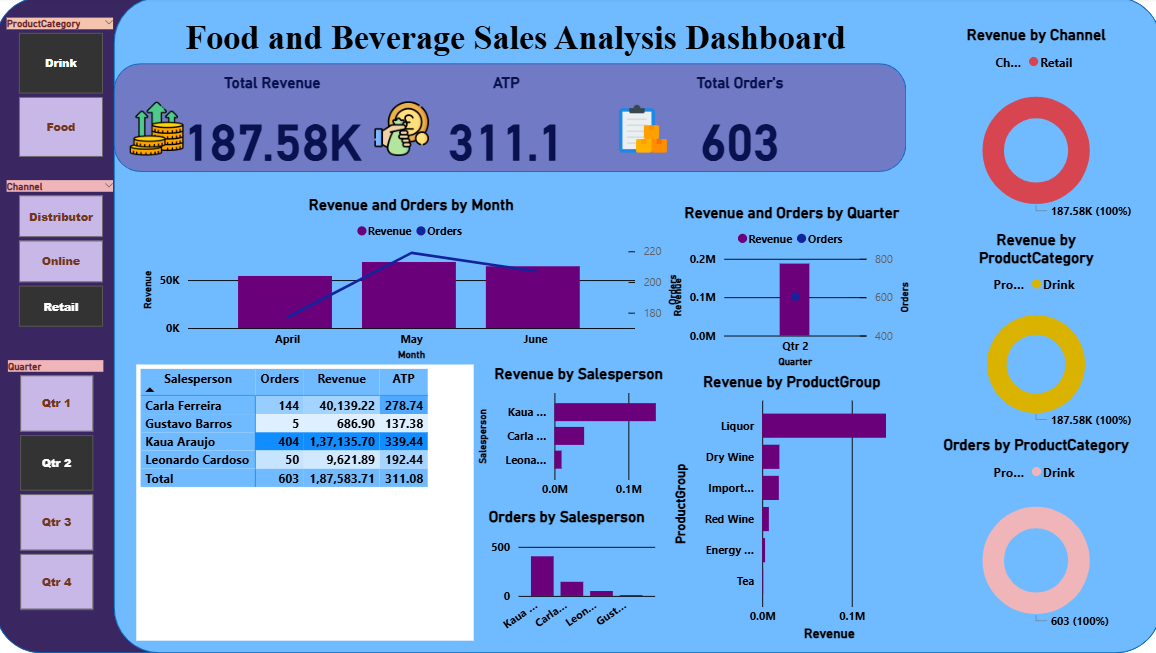

What the dashboard file says about the page in this screenshot:
{"tool":"powerbi","page":{"name":"Page 2","canvas":[1280,720],"ordinal":1},"visuals":[{"type":"shape","box":[0,0,1280.3,720.4],"z":0},{"type":"shape","box":[130.4,0,1149.9,720.4],"z":1000},{"type":"shape","box":[130.4,72.7,870,119.4],"z":2000},{"type":"card","title":"Total Revenue","fields":{"Values":["Product.Revenue"]},"box":[155.1,83.7,299.1,119.4],"z":3000},{"type":"card","title":"ATP","fields":{"Values":["Product.ATP"]},"box":[411.7,83.7,299.1,119.4],"z":4000},{"type":"card","title":"Total Order''s","fields":{"Values":["Product.Orders"]},"box":[668.3,83.7,299.1,119.4],"z":5000},{"type":"donutChart","fields":{"Y":["Product.Revenue"],"Category":["Sheet1.Channel"]},"box":[1033.3,31.6,219.6,225],"z":6000},{"type":"donutChart","fields":{"Y":["Product.Revenue"],"Category":["Product.ProductCategory"]},"box":[1033.3,256.6,219.6,225],"z":7000},{"type":"donutChart","fields":{"Category":["Product.ProductCategory"],"Y":["Product.Orders"]},"box":[1033.3,481.6,219.6,225],"z":8000},{"type":"lineStackedColumnComboChart","fields":{"Y":["Product.Revenue"],"Y2":["Product.Orders"],"Category":["Sheet1.OrderDate.Variation.Date Hierarchy.Quarter"]},"box":[739.6,226.4,270.3,185.2],"z":9000},{"type":"barChart","fields":{"Y":["Product.Revenue"],"Category":["Product.ProductGroup"]},"box":[739.6,411.7,270.3,300.5],"z":10000},{"type":"lineStackedColumnComboChart","fields":{"Y":["Product.Revenue"],"Y2":["Product.Orders"],"Category":["Sheet1.OrderDate.Variation.Date Hierarchy.Month"]},"box":[157.8,218.2,598.3,185.2],"z":11000},{"type":"barChart","fields":{"Y":["Product.Revenue"],"Category":["Sheet1.Salesperson"]},"box":[525.6,403.4,230.5,155.1],"z":12000},{"type":"clusteredColumnChart","fields":{"Y":["Product.Orders"],"Category":["Sheet1.Salesperson"]},"box":[525.6,559.9,204.5,146.8],"z":13000},{"type":"pivotTable","fields":{"Rows":["Sheet1.Salesperson"],"Values":["Product.Orders","Product.Revenue","Product.ATP"]},"box":[155.1,403.4,370.5,303.3],"z":14000},{"type":"slicer","fields":{"Values":["Product.ProductCategory"]},"box":[0,17.8,142.7,164.7],"z":15000},{"type":"slicer","fields":{"Values":["Sheet1.Channel"]},"box":[0,196.2,142.7,172.9],"z":16000},{"type":"slicer","fields":{"Values":["Sheet1.OrderDate.Variation.Date Hierarchy.Quarter"]},"box":[1.4,393.8,130.4,285.4],"z":17000},{"type":"textbox","box":[142.7,17.8,857.6,54.9],"z":18000},{"type":"image","box":[142.7,109.8,70,70],"z":19000},{"type":"image","box":[676.5,109.8,70,70],"z":20000},{"type":"image","box":[411.7,109.8,70,70],"z":21000}]}

Visuals, with their boxes in screenshot pixels (x1, y1, x2, y2), scaled from the page's 1280x720 canvas onto the 1156x653 screenshot:
shape: bbox=[0, 0, 1155, 652]
shape: bbox=[118, 0, 1155, 652]
shape: bbox=[118, 66, 903, 174]
"Total Revenue" card: bbox=[140, 76, 410, 184]
"ATP" card: bbox=[372, 76, 642, 184]
"Total Order''s" card: bbox=[604, 76, 874, 184]
donutChart - Product.Revenue x Sheet1.Channel: bbox=[933, 29, 1132, 233]
donutChart - Product.Revenue x Product.ProductCategory: bbox=[933, 233, 1132, 437]
donutChart - Product.ProductCategory x Product.Orders: bbox=[933, 437, 1132, 641]
lineStackedColumnComboChart - Product.Revenue x Product.Orders: bbox=[668, 205, 912, 373]
barChart - Product.Revenue x Product.ProductGroup: bbox=[668, 373, 912, 646]
lineStackedColumnComboChart - Product.Revenue x Product.Orders: bbox=[143, 198, 683, 366]
barChart - Product.Revenue x Sheet1.Salesperson: bbox=[475, 366, 683, 507]
clusteredColumnChart - Product.Orders x Sheet1.Salesperson: bbox=[475, 508, 659, 641]
pivotTable - Sheet1.Salesperson x Product.Orders: bbox=[140, 366, 475, 641]
slicer - Product.ProductCategory: bbox=[0, 16, 129, 166]
slicer - Sheet1.Channel: bbox=[0, 178, 129, 335]
slicer - Sheet1.OrderDate.Variation.Date Hierarchy.Quarter: bbox=[1, 357, 119, 616]
textbox: bbox=[129, 16, 903, 66]
image: bbox=[129, 100, 192, 163]
image: bbox=[611, 100, 674, 163]
image: bbox=[372, 100, 435, 163]
